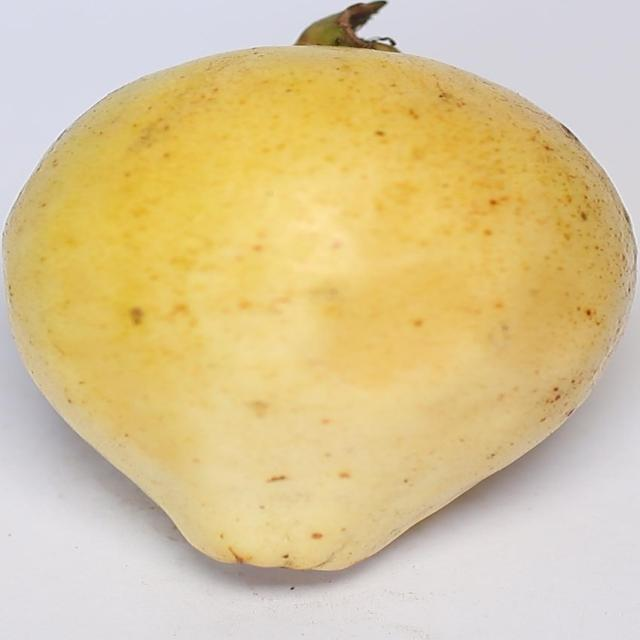Good_Guava: (2, 44, 639, 577)
